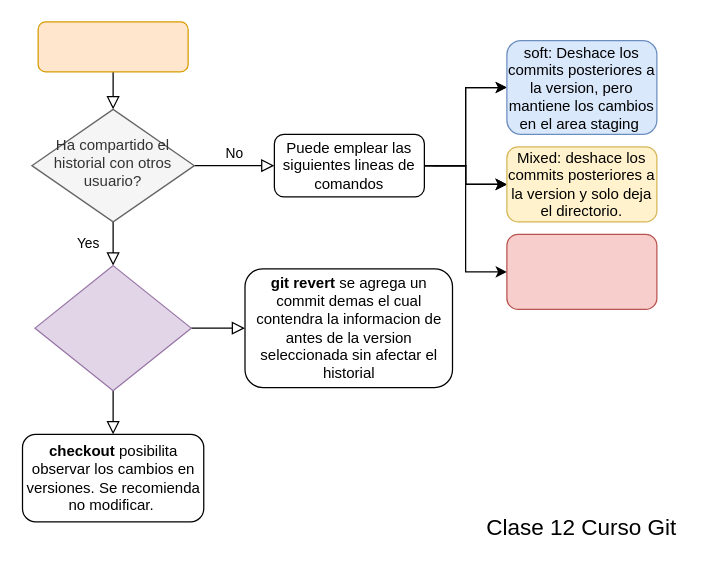
This 703x569 diagram has some shape labels left out. Each missing label, with the box of its shape:
Hard: Deshace todos los cambios y es dificil o imposible retomarlos.: (506, 233, 657, 309)
Opciones: (34, 264, 191, 391)
Proceso de correción: (37, 21, 188, 72)
